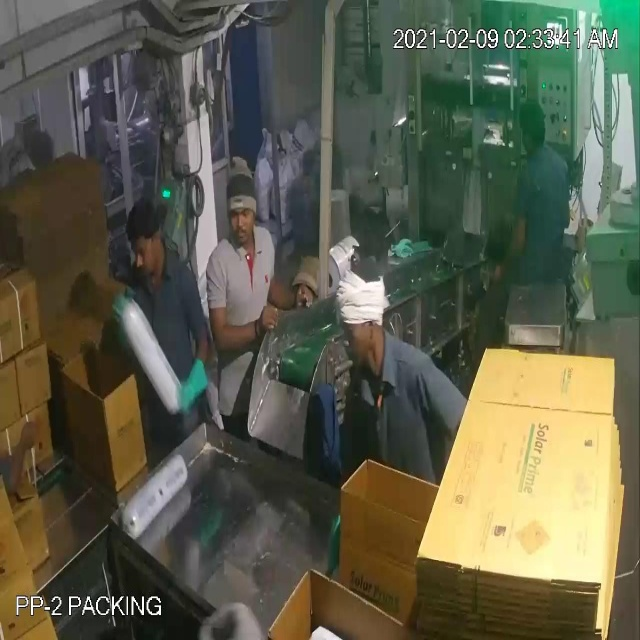Guantes: (166, 345, 216, 419), (113, 282, 144, 359)
Sin_guantes: (202, 289, 283, 356), (481, 211, 536, 292), (2, 403, 46, 501), (255, 264, 309, 313)
